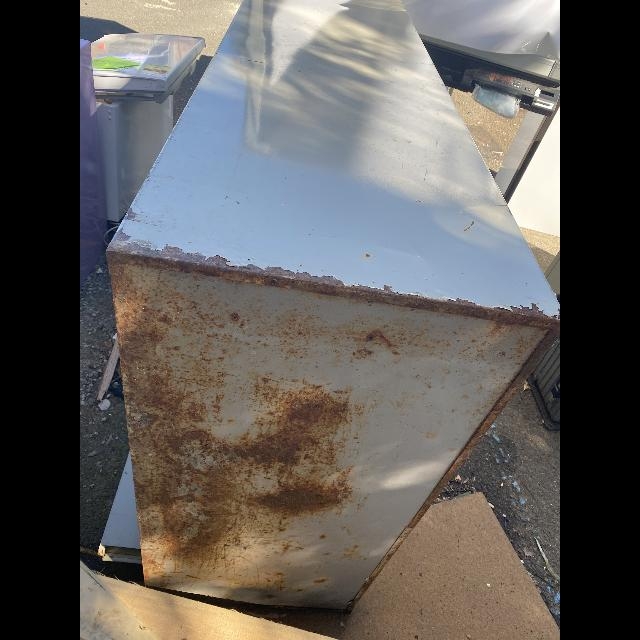Ferrous Metal: (105, 0, 559, 607), (96, 94, 173, 222), (80, 37, 107, 289), (90, 34, 205, 86), (494, 111, 545, 199), (529, 334, 560, 429), (546, 249, 560, 306)
